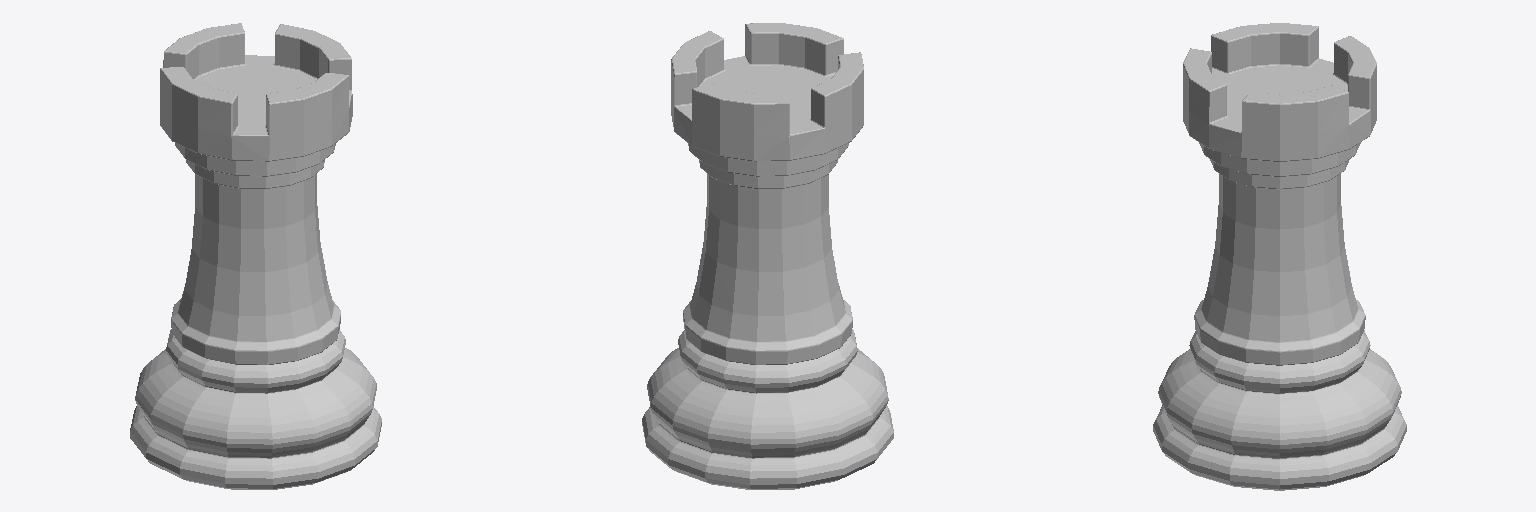
The model's file is chess_tower.obj.
3 renders of one model, left to right at view 1: azimuth 30°, elevation 25°; view 2: azimuth 150°, elevation 25°; view 3: azimuth 270°, elevation 25°, orthographic.
Visible parts, largest first — view 1: WhitePawnPiece4.008; view 2: WhitePawnPiece4.008; view 3: WhitePawnPiece4.008.
Boxes of the visible parts, box(x1,y1,x2,y2) form: WhitePawnPiece4.008: box(130, 23, 381, 489); WhitePawnPiece4.008: box(642, 23, 893, 489); WhitePawnPiece4.008: box(1153, 23, 1406, 490).
Size of the model in its own units: 0.2089 by 0.3502 by 0.2089.